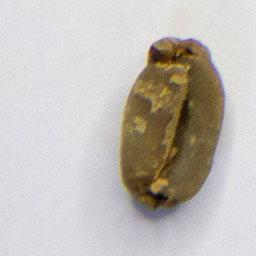defect: (116, 33, 229, 213)
